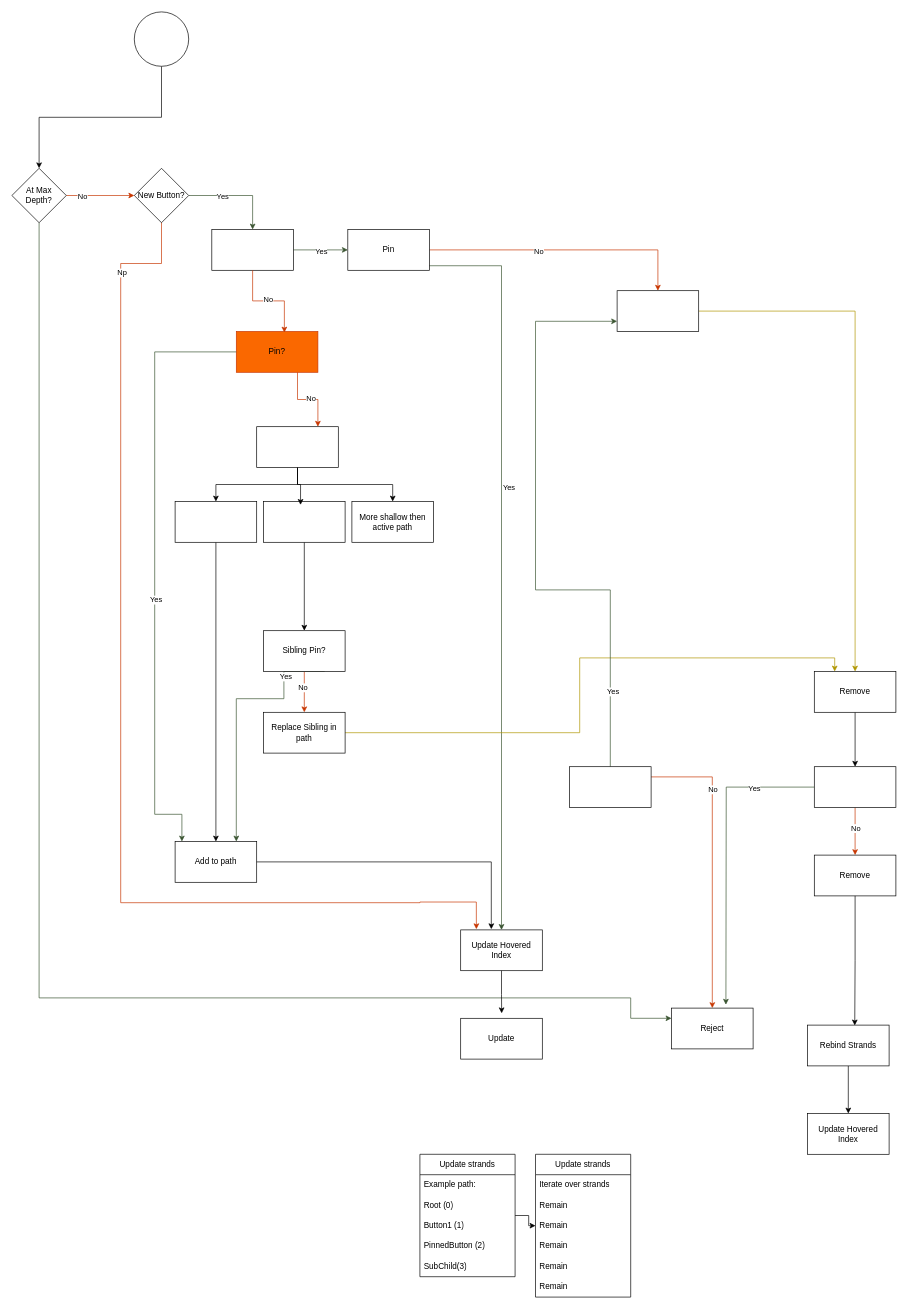
Some shapes in this 908 by 1309 pixel diagram are drawn without their labels. The shapes that lost their labels are listed below. From the top down, each one's box as (x1, y1, x2, y2) in pixels, then its label:
(134, 11, 189, 66): Hover event
(211, 229, 293, 270): Button already in path?
(616, 290, 699, 332): Remove from path
(256, 426, 338, 468): Switch
(174, 501, 257, 542): Less shallow then active path
(263, 501, 345, 542): Sibling
(569, 766, 651, 808): Can path be backTracked without removing pin?
(814, 766, 896, 808): Any pins higher then target
